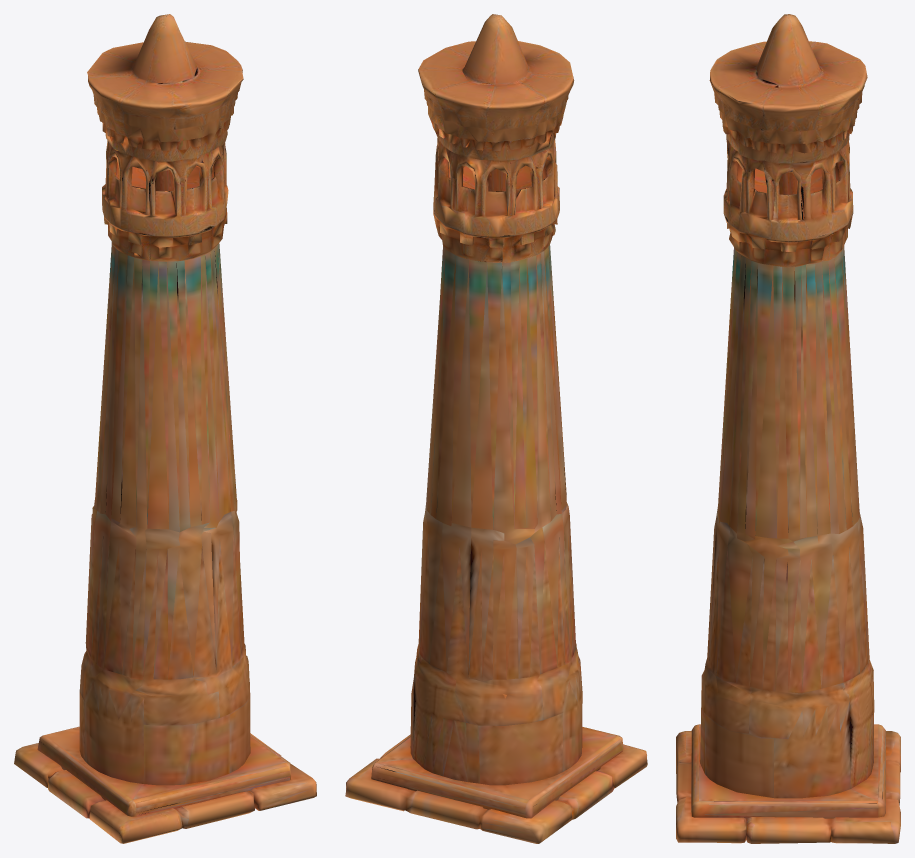
The model's file is kalon.glb.
The picture shows the model from 3 angles, left to right: view 1: azimuth 30°, elevation 25°; view 2: azimuth 150°, elevation 25°; view 3: azimuth 270°, elevation 25°; orthographic projection.
Visible parts, largest first — view 1: geometry_0; view 2: geometry_0; view 3: geometry_0.
Part boxes in pixels (x1,y1,x2,y2): geometry_0: (14,14,316,843); geometry_0: (345,14,647,843); geometry_0: (676,14,900,843).
Size of the model in its own units: 0.2573 by 0.9497 by 0.2475.
1 material, 1 textured.
